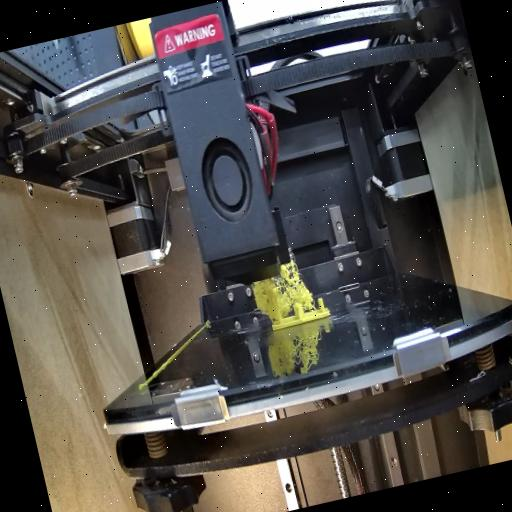spaghetti: (246, 262, 314, 320)
